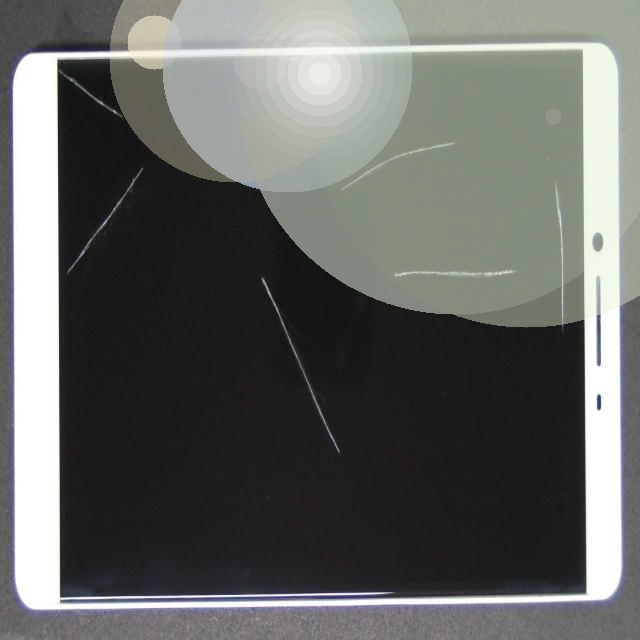scratch: (176, 306, 526, 640), (316, 38, 640, 207)
